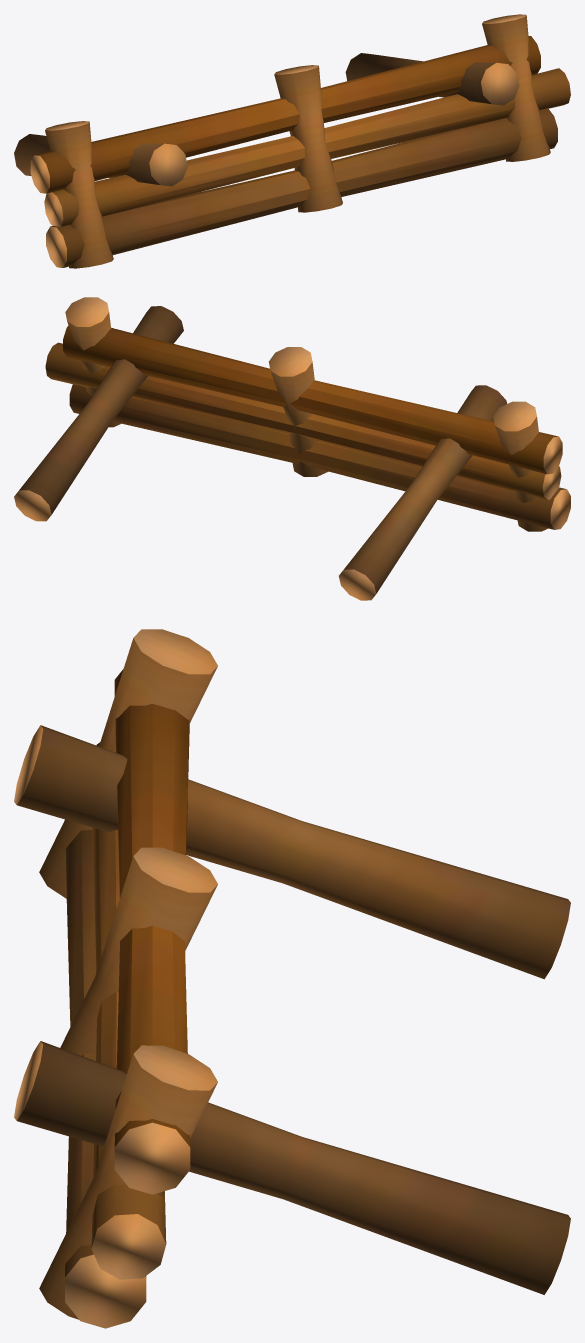
The model's file is WoodenBarrier.fbx.
3 views of the same model, one above another, from view 1: azimuth 30°, elevation 25°; view 2: azimuth 150°, elevation 25°; view 3: azimuth 270°, elevation 25° (orthographic). The views are drawn at different scales.
Parts seen in each view (by area): view 1: WoodenBarrier; view 2: WoodenBarrier; view 3: WoodenBarrier.
Boxes of the visible parts, x1=… form: WoodenBarrier: x1=14, y1=14, x2=570, y2=268; WoodenBarrier: x1=14, y1=297, x2=570, y2=600; WoodenBarrier: x1=14, y1=629, x2=570, y2=1328.
Size of the model in its own units: 5.69 by 1.5 by 2.73.
1 material, 1 textured.
